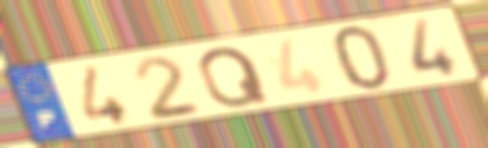0: (329, 23, 395, 92)
2: (132, 54, 205, 123)
4: (274, 34, 328, 98), (79, 63, 131, 127), (407, 17, 460, 79)
Q: (195, 44, 273, 111)
